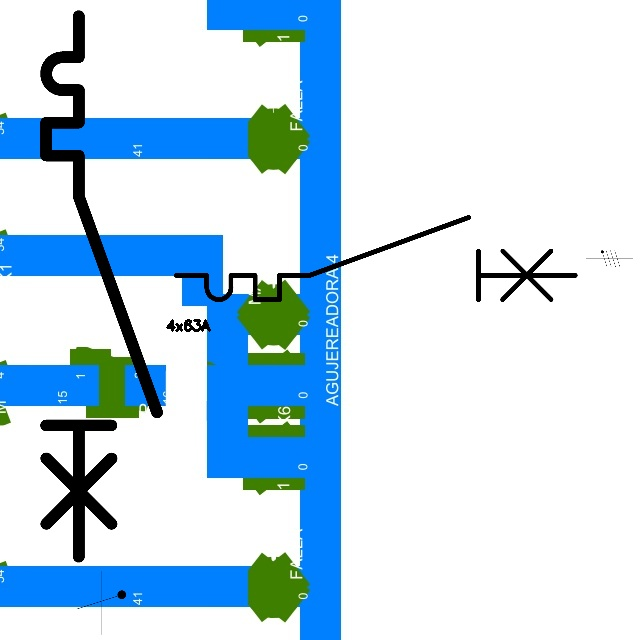interruptor_termomagnetico: (32, 2, 171, 570), (166, 207, 586, 310)
